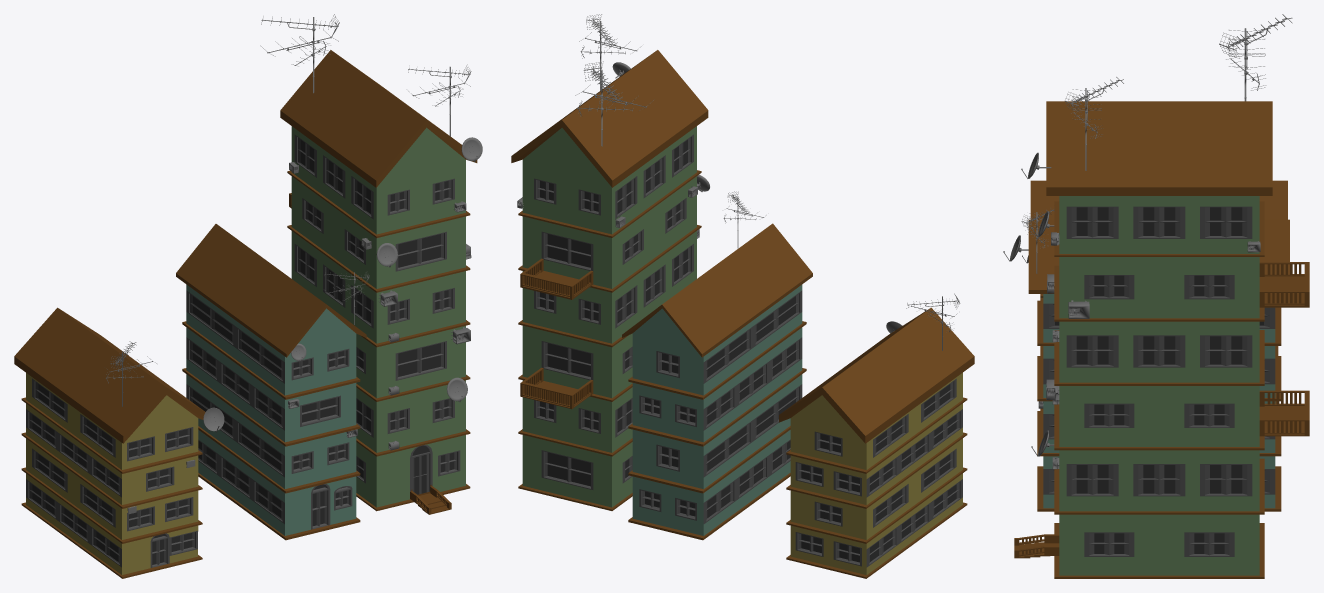
Rendered from herenhuisset.fbx.
The picture shows the model from 3 angles, left to right: view 1: azimuth 30°, elevation 25°; view 2: azimuth 150°, elevation 25°; view 3: azimuth 270°, elevation 25°; orthographic projection. The views are drawn at different scales.
Visible parts, largest first — view 1: building_003, building_010, satelite.002; view 2: building_003, building_010, satelite.002; view 3: building_003, building_010, satelite.002.
Boxes of the visible parts, box(x1,y1,x2,y2) form: building_003: box(260, 14, 482, 514); building_010: box(176, 224, 369, 540); satelite.002: box(14, 307, 224, 578); building_003: box(511, 14, 709, 510); building_010: box(622, 191, 812, 540); satelite.002: box(779, 293, 974, 578); building_003: box(1014, 14, 1309, 578); building_010: box(1021, 208, 1289, 511); satelite.002: box(1003, 180, 1287, 410).
Bounding box in the file's own units: 4814 × 5375 × 2942.
